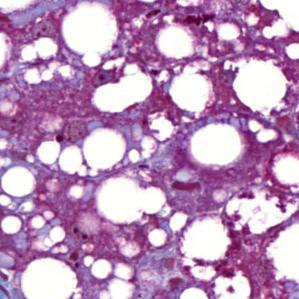steatosis: (192, 118, 246, 169), (82, 131, 129, 172)
